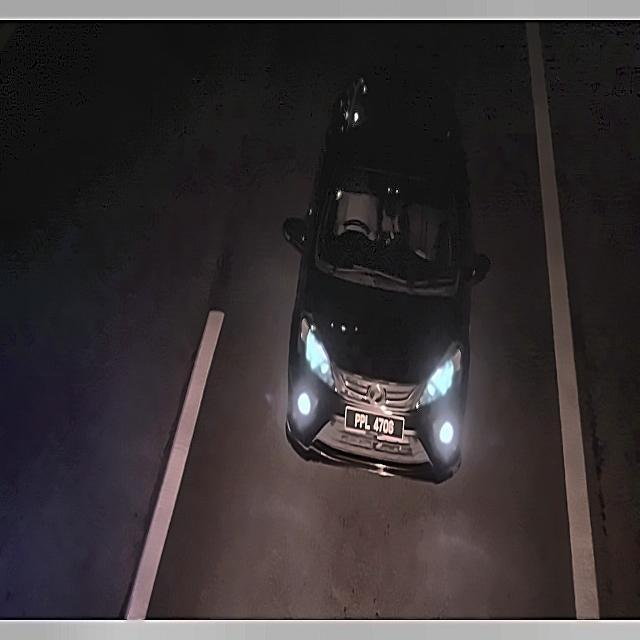car: (341, 401, 412, 447)
